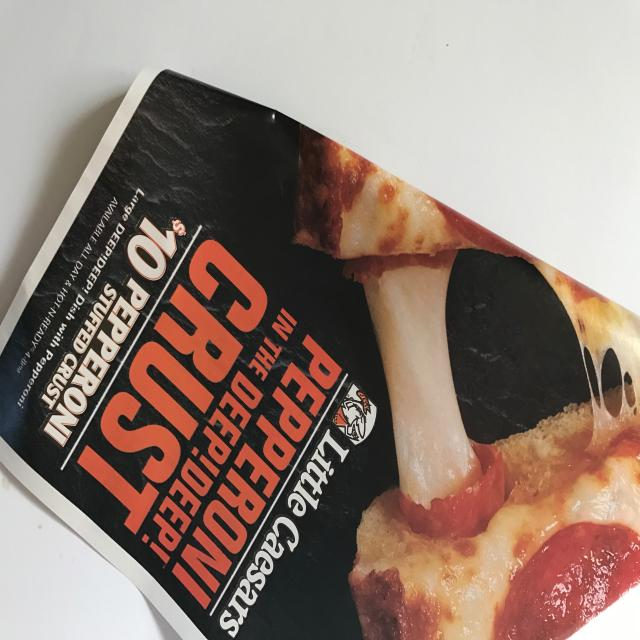paper: (1, 1, 639, 638)
